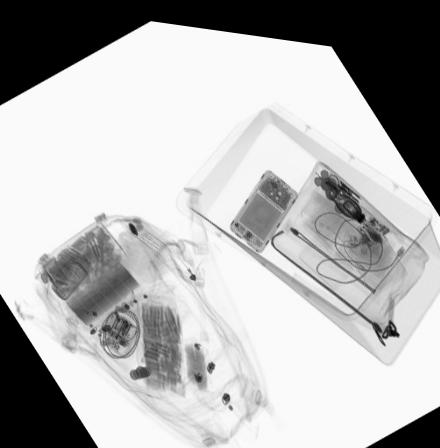Lighter: (364, 202, 394, 228)
